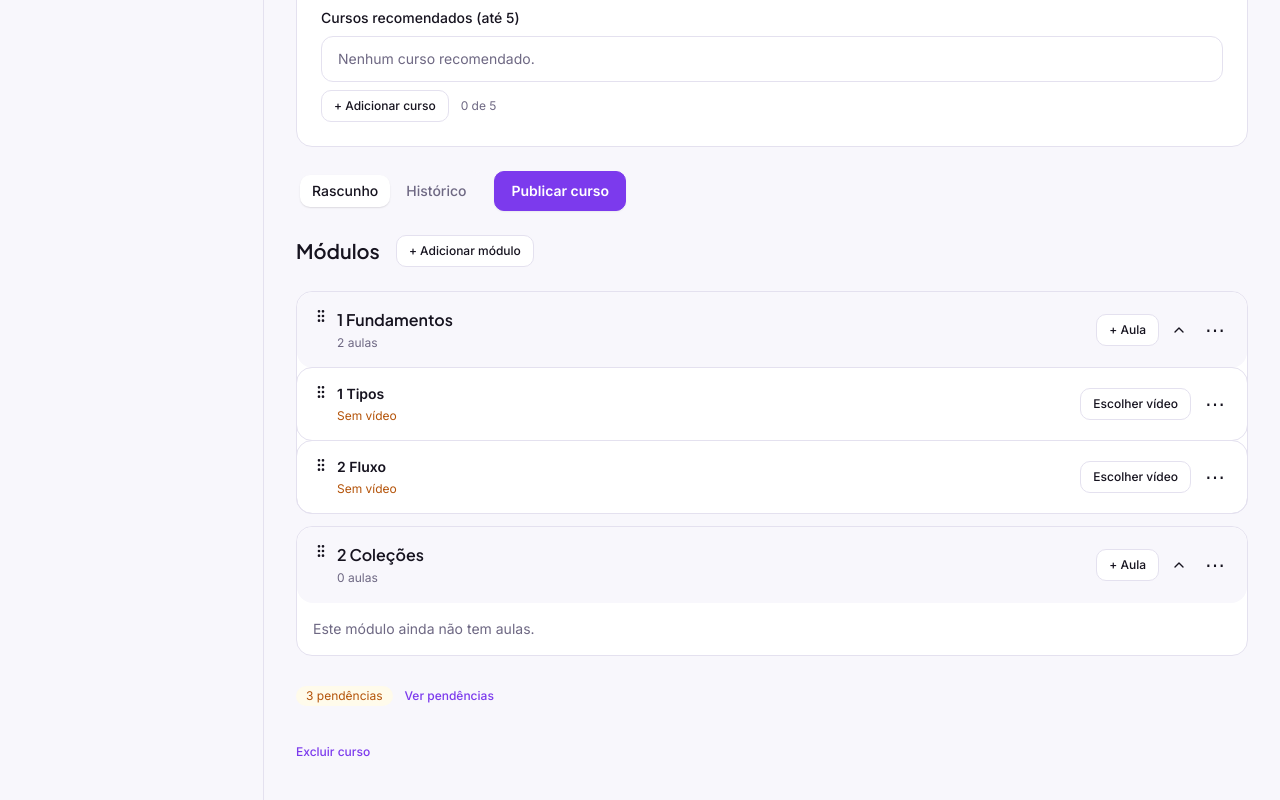
it: authoring video picker with tags › empty filter result explains it and "Limpar filtros" clears title and tags
(page scrolled)
Click the button "Escolher vídeo" in the row of "Tipos": [1136, 404] box 1080,388 -> 1191,420
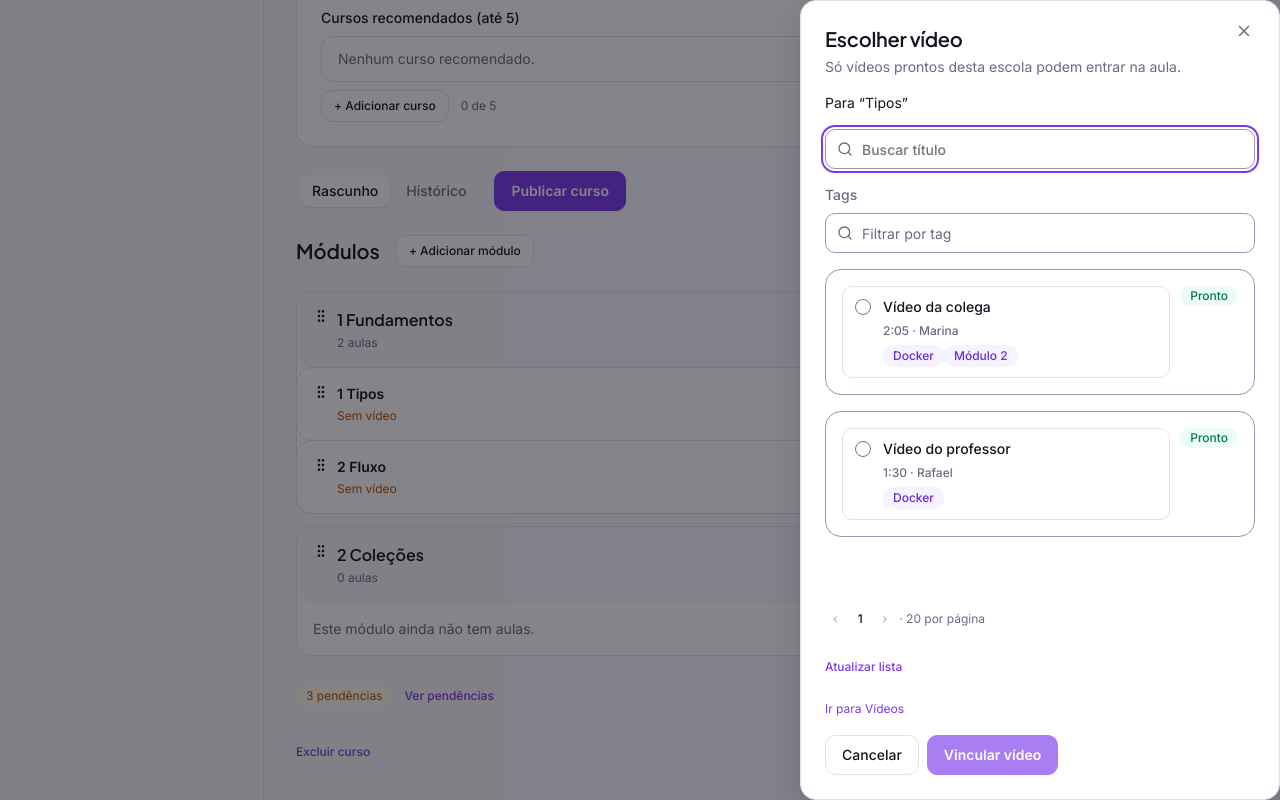
Check: the radio button labelled "Vídeo da colega 2:05 · Marina Pronto Docker Módulo 2" is shown, box 855,299 -> 871,315
In the dropdown named "Filtrar por Tags": [1040, 233] box 825,213 -> 1255,253, type "Docker"
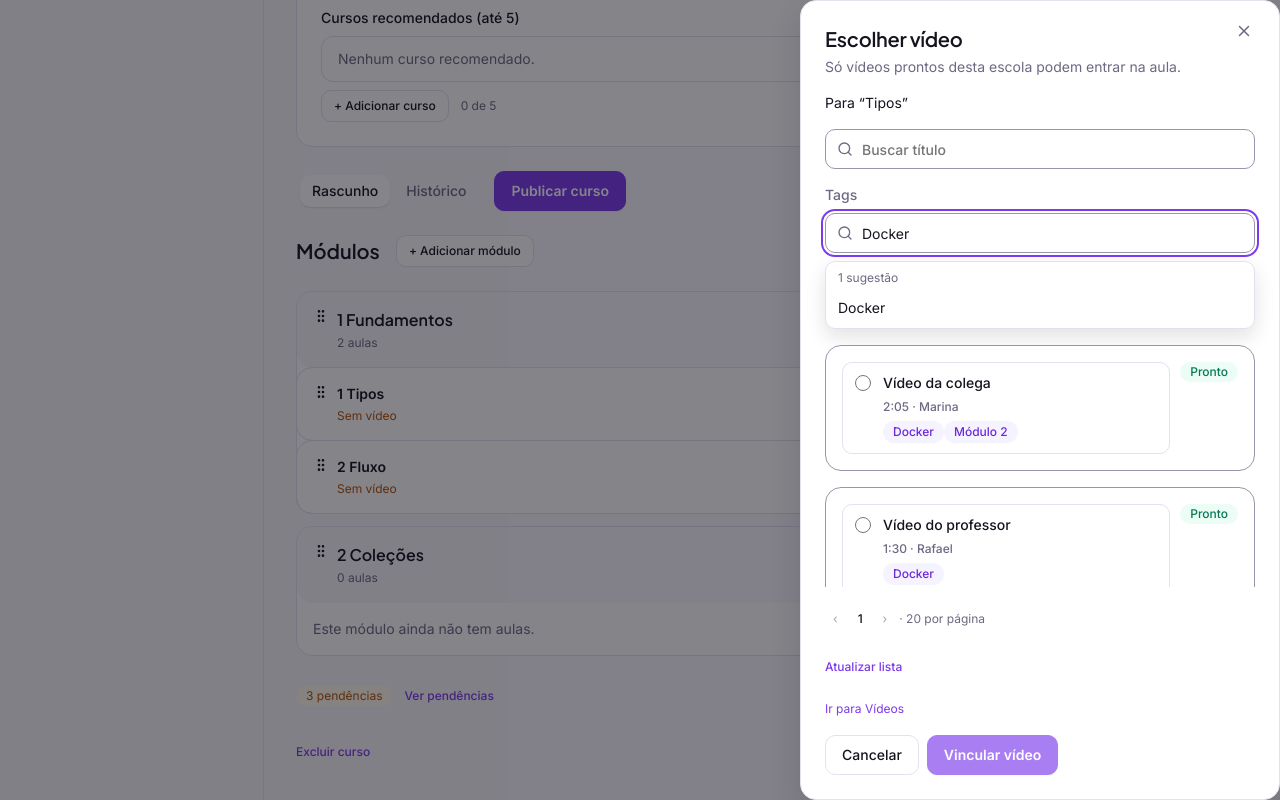
Click the option "Docker": [862, 308] box 838,299 -> 885,316
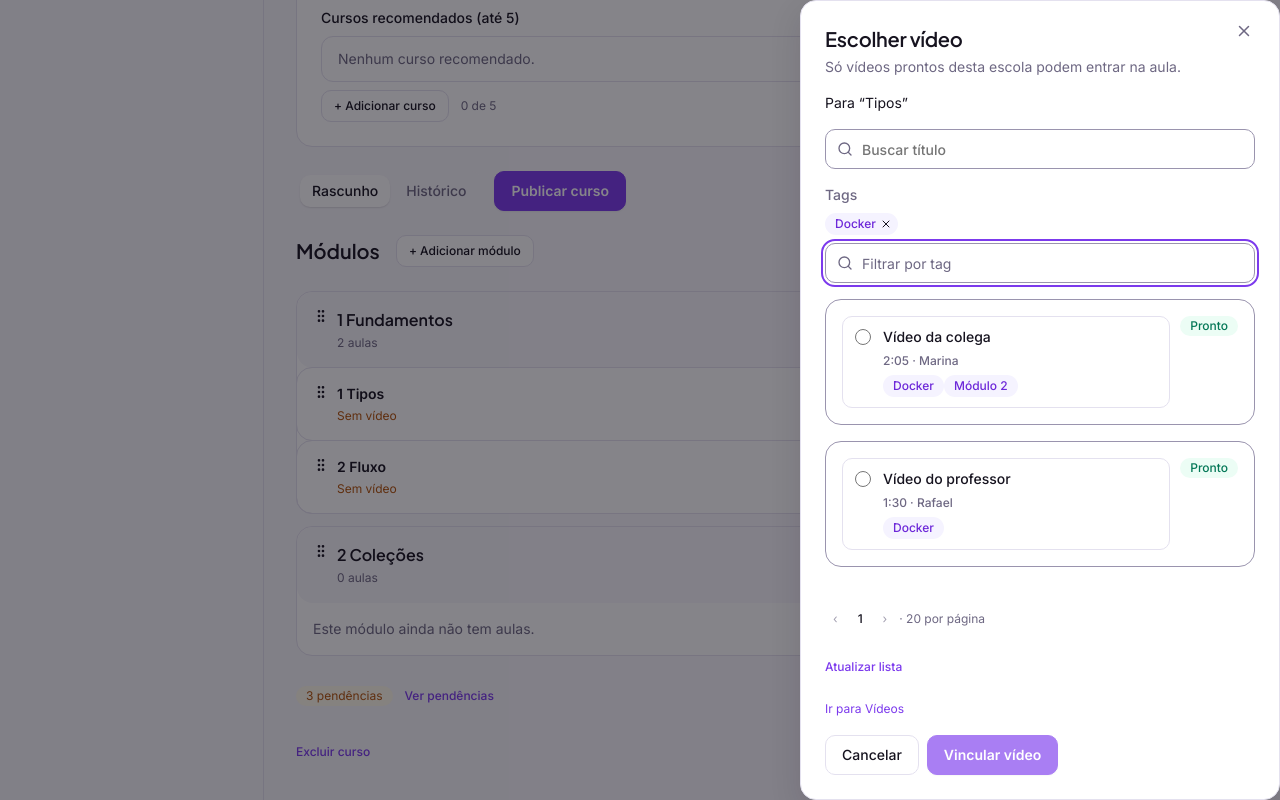
In the search field labelled "Buscar título": [1040, 149] box 825,129 -> 1255,169, type "Inexistente"
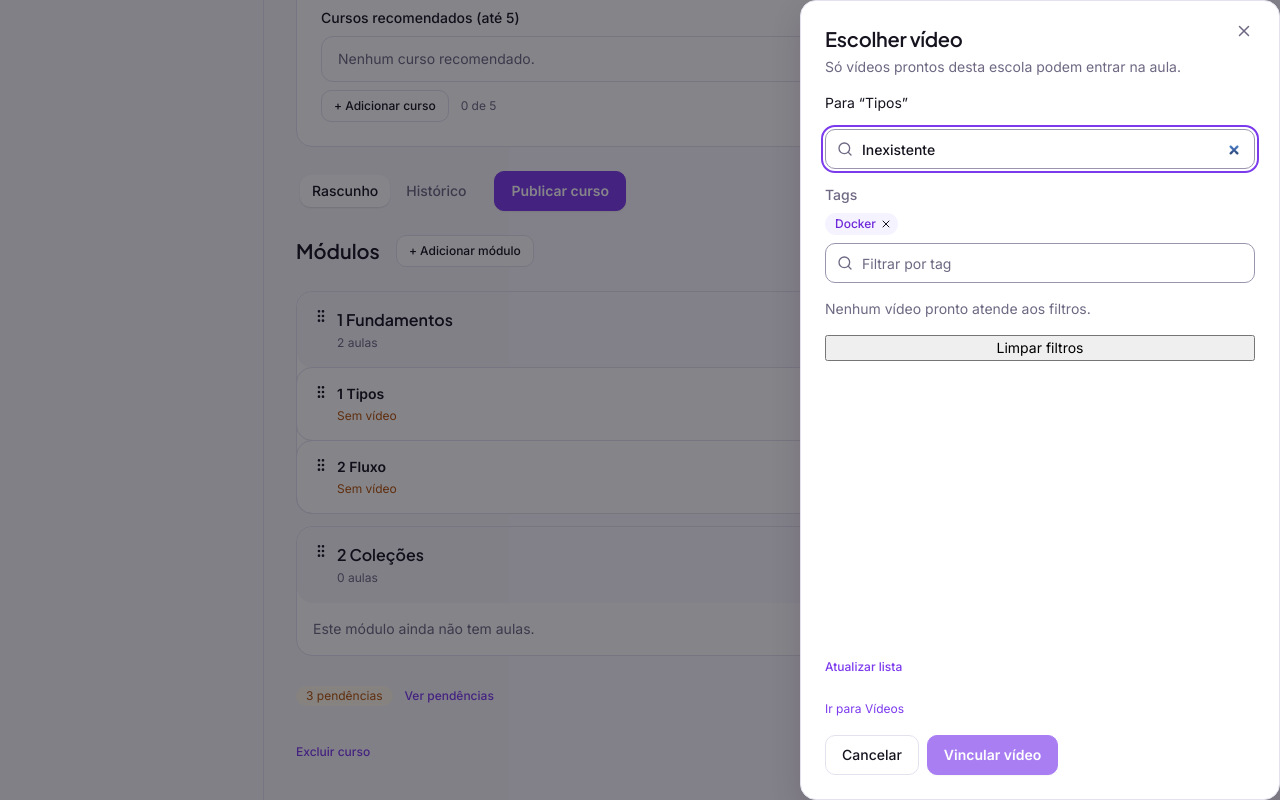
Check: the text "Nenhum vídeo pronto atende aos filtros." is shown, box 825,300 -> 1091,317
Click the button "Limpar filtros": [1040, 348] box 825,335 -> 1255,361
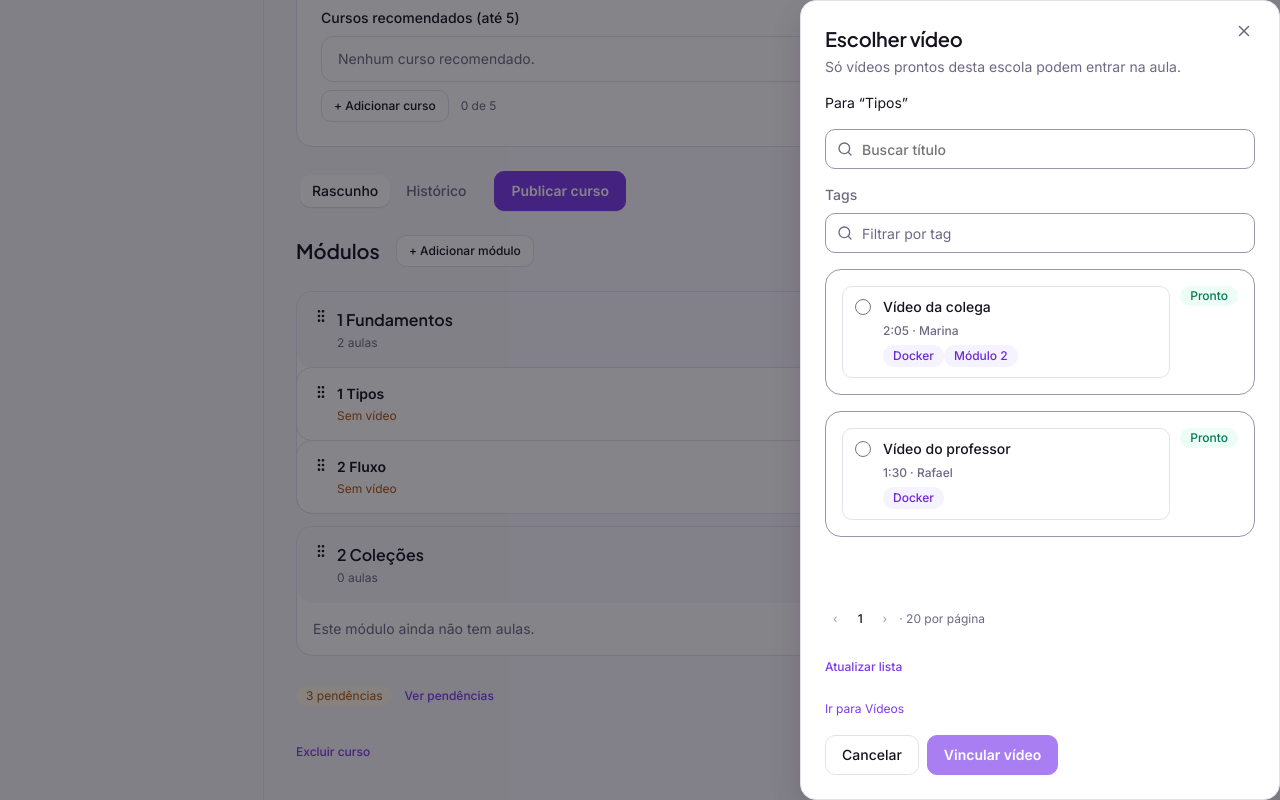
Check: the radio button labelled "Vídeo da colega 2:05 · Marina Pronto Docker Módulo 2" is shown, box 855,299 -> 871,315
Check: the search field labelled "Buscar título" is empty, box 825,129 -> 1255,169
